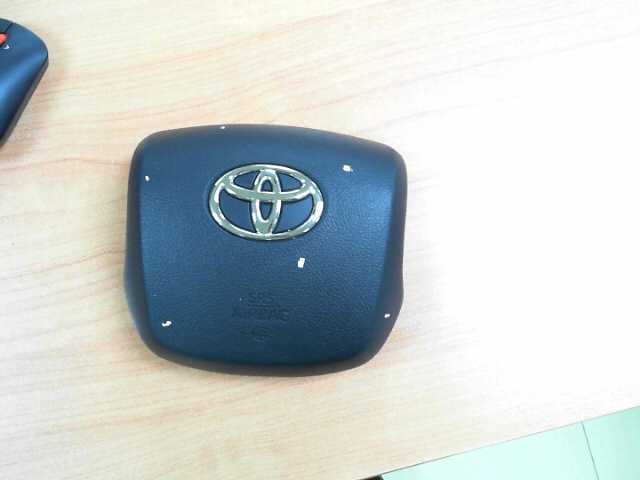Airbag: (160, 320, 172, 328), (342, 165, 354, 173), (297, 258, 305, 269), (144, 175, 150, 182), (384, 313, 391, 319), (220, 125, 227, 130)
